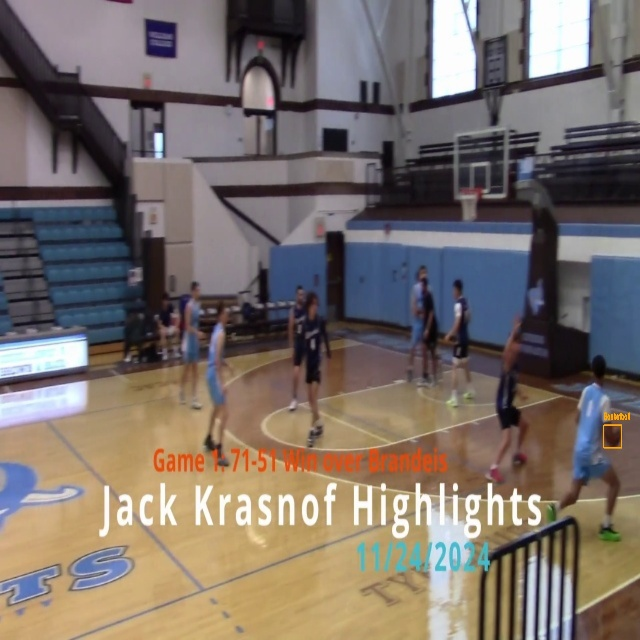Basketball: (604, 425, 621, 447)
